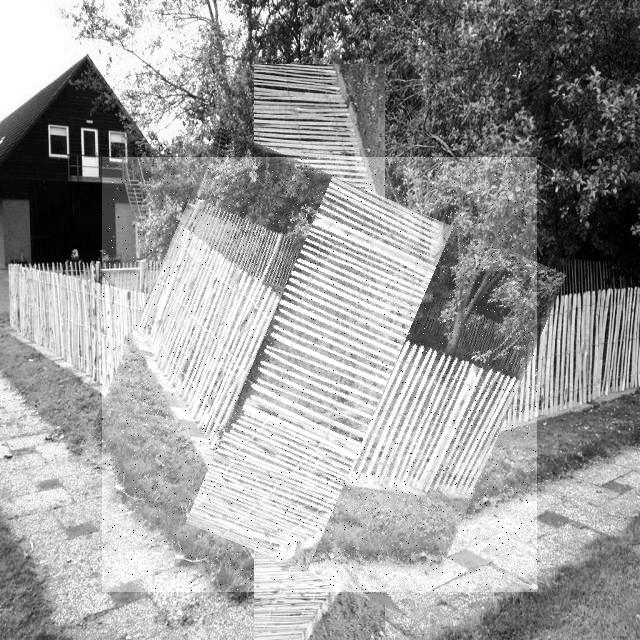fences: (102, 157, 537, 592)
